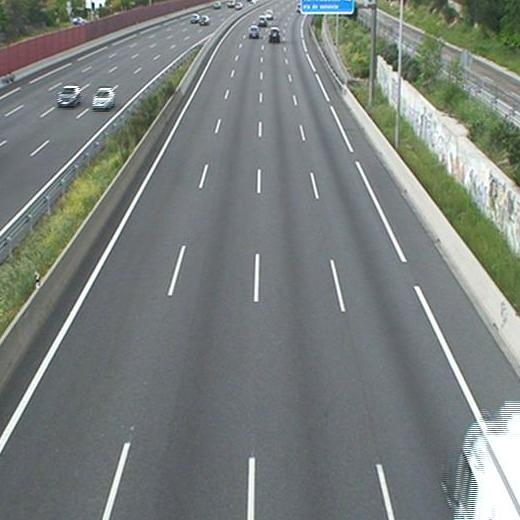car: (269, 27, 281, 42), (247, 26, 260, 38), (257, 15, 267, 27)
